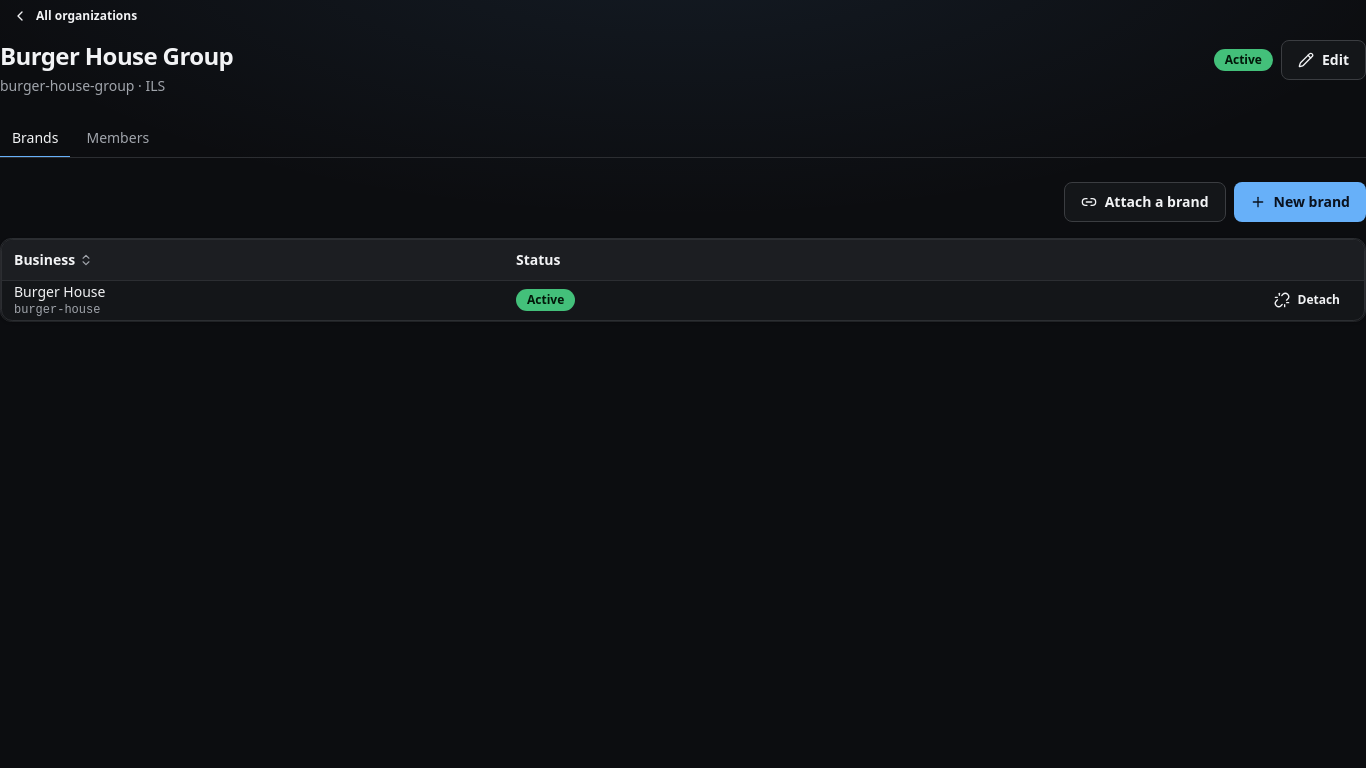
Scenario: OrganizationDetailPage brands › keeps the dialog open and explains when the brand has no owner of its own
This screenshot has width=1366, height=768.
Click the button with aria-label "Detach: Burger House".
click(1307, 300)  # box [1262,284,1352,316]
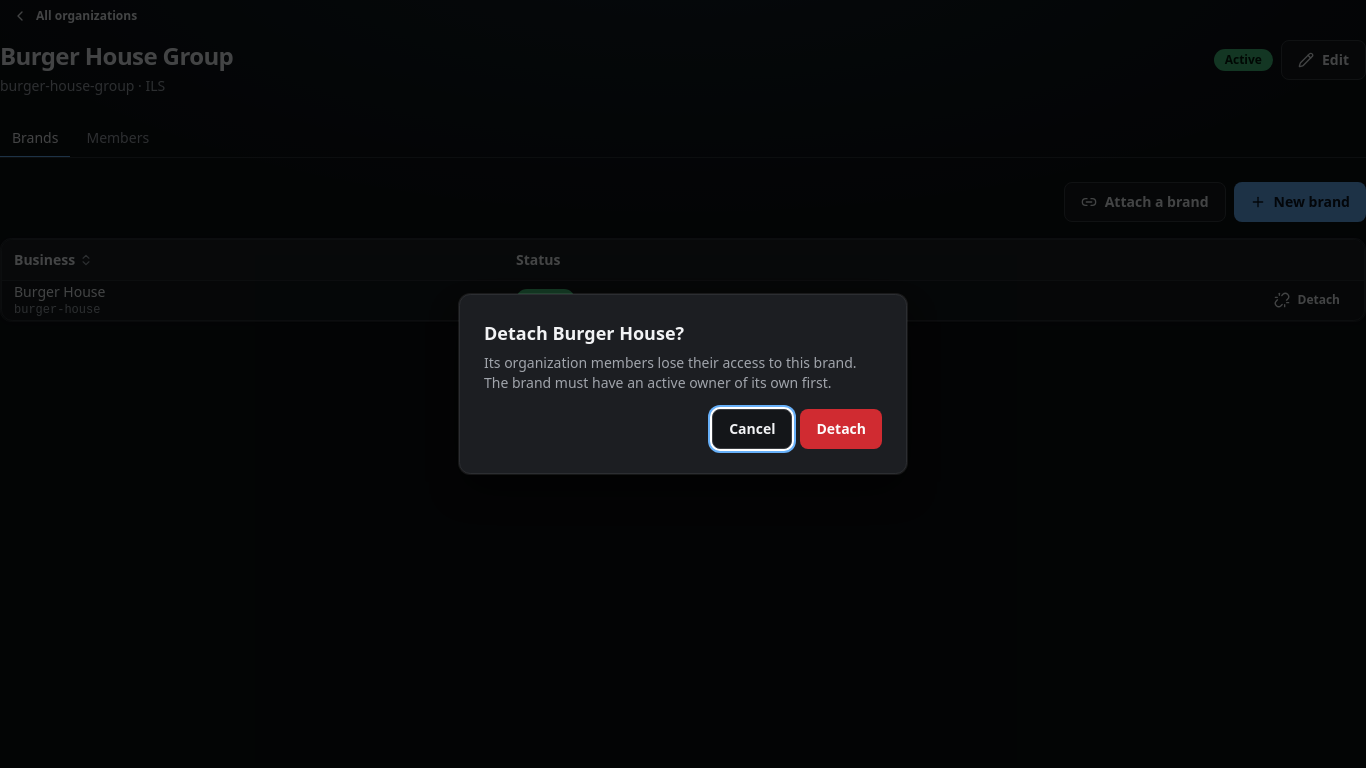
Click the button "Detach".
click(841, 429)  # box [800,409,882,449]
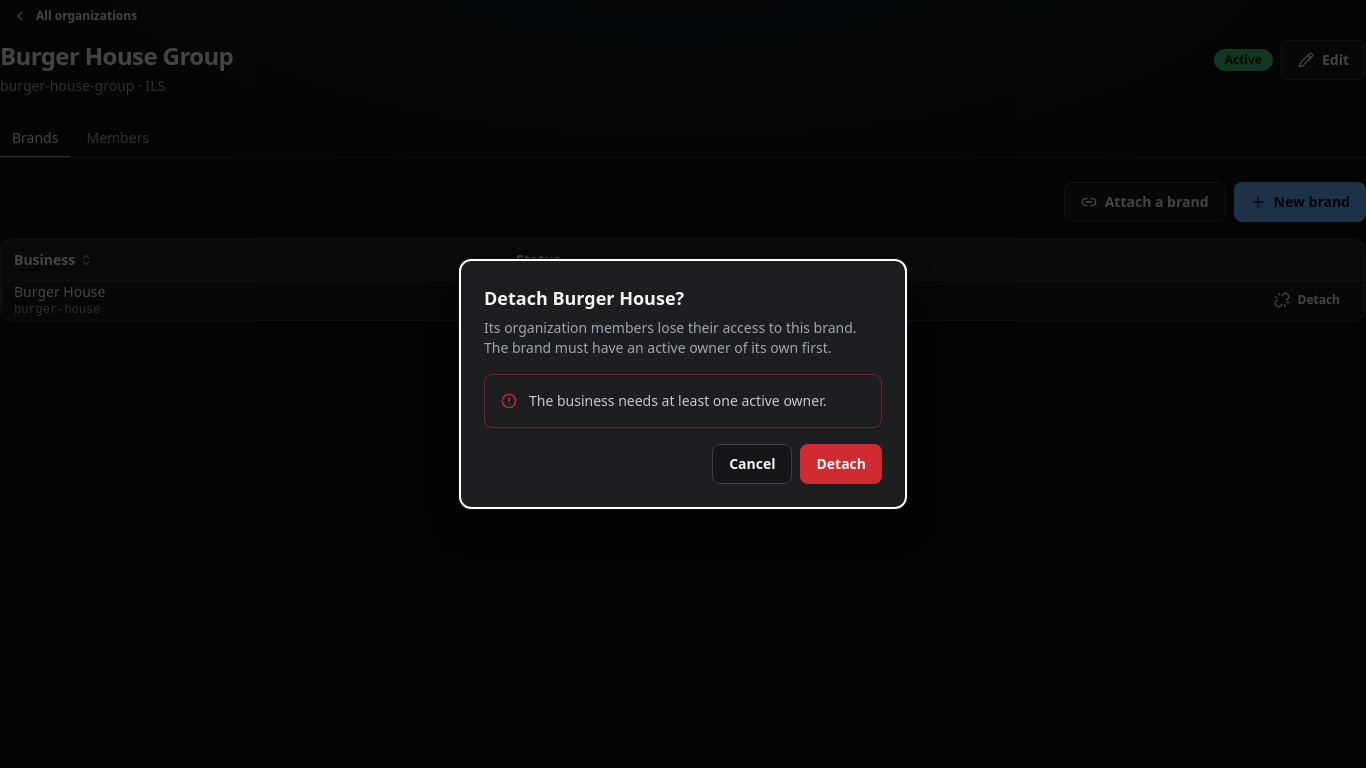
Now the text "The business needs at least one active owner." is shown, box [529,391,865,411]
